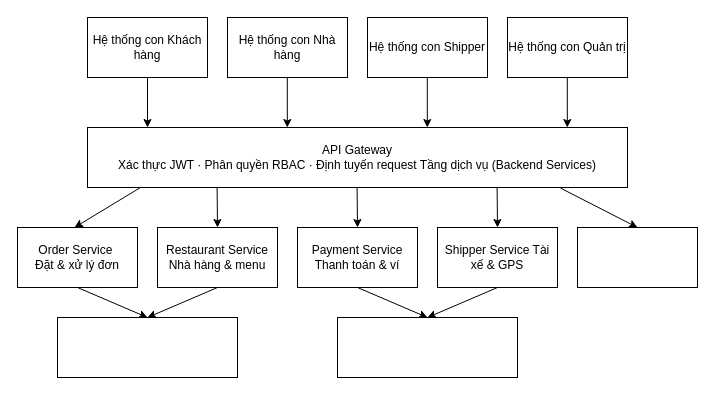
The diagram is 715 pixels wide and 395 high, and some of its shapes have lost their labels. The box of each missing label's shape, as (x1, y1, x2, y2) in pixels:
Cache & Geo Store Redis Vị trí tài xế thời gian thực: (336, 316, 518, 378)
Database MySQL KhachHang · DonHang · MonAn · ThanhToan: (56, 316, 238, 378)
Notification Service Push & Email: (576, 226, 698, 288)
